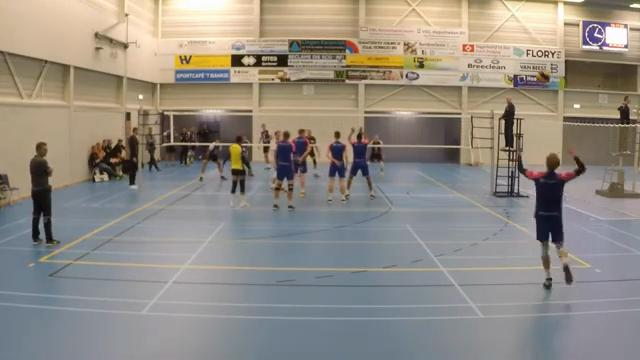Player: (346, 128, 374, 198), (273, 131, 294, 209), (228, 136, 248, 206), (327, 131, 346, 203), (293, 129, 310, 197), (199, 140, 226, 181), (269, 131, 280, 189), (307, 129, 320, 177), (369, 135, 383, 176), (260, 123, 271, 169), (241, 136, 253, 176)
Serve: (514, 145, 593, 290)
ball: (537, 70, 550, 83)
